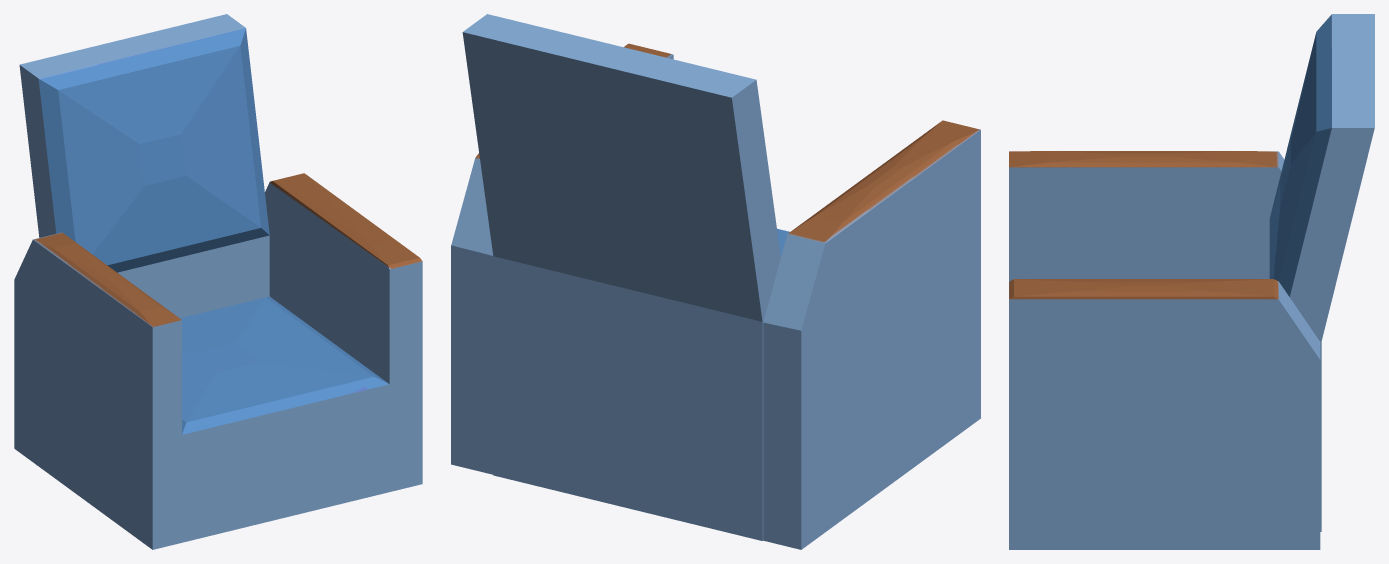
Rendered from Sofa Diego.obj.
The picture shows the model from 3 angles, left to right: view 1: azimuth 30°, elevation 25°; view 2: azimuth 150°, elevation 25°; view 3: azimuth 270°, elevation 25°; orthographic projection. The views are drawn at different scales.
Visible parts, largest first — view 1: Cube; view 2: Cube; view 3: Cube.
Boxes of the visible parts, box(x1,y1,x2,y2) form: Cube: box(14, 14, 422, 549); Cube: box(451, 14, 980, 549); Cube: box(1009, 14, 1374, 549).
Bounding box in the file's own units: 2.6 × 3.31 × 2.71.
